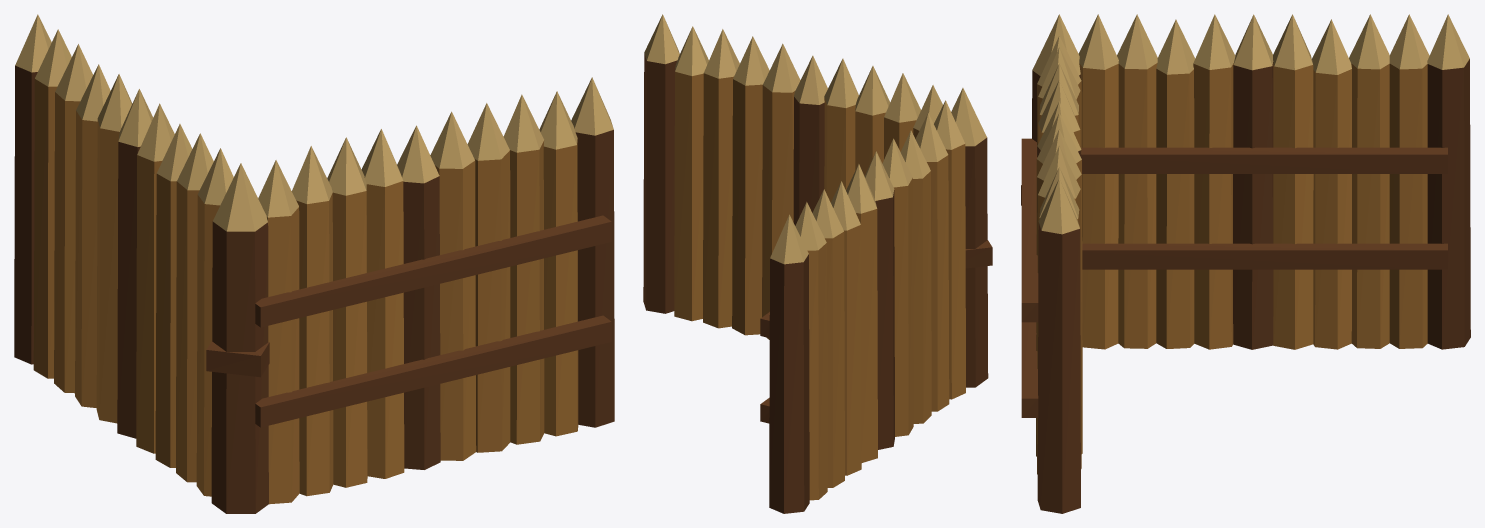
3 views of the same model, side by side, from view 1: azimuth 30°, elevation 25°; view 2: azimuth 150°, elevation 25°; view 3: azimuth 270°, elevation 25° (orthographic). The views are drawn at different scales.
Visible parts, largest first — view 1: WK_W10_LOD1_Balanced; view 2: WK_W10_LOD1_Balanced; view 3: WK_W10_LOD1_Balanced.
Boxes of the visible parts, left/top/right/bottom form: WK_W10_LOD1_Balanced: left=14, top=14, right=614, bottom=513; WK_W10_LOD1_Balanced: left=643, top=14, right=992, bottom=513; WK_W10_LOD1_Balanced: left=1021, top=14, right=1470, bottom=513.
Size of the model in its own units: 4 by 3.2 by 4.
